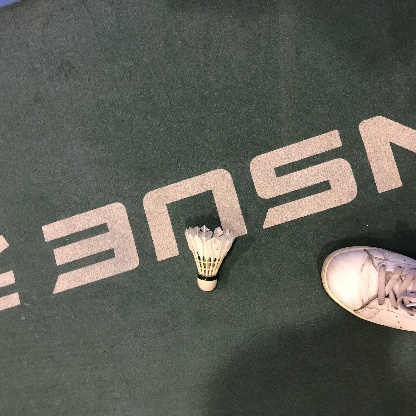ball_single: (185, 225, 235, 291)
